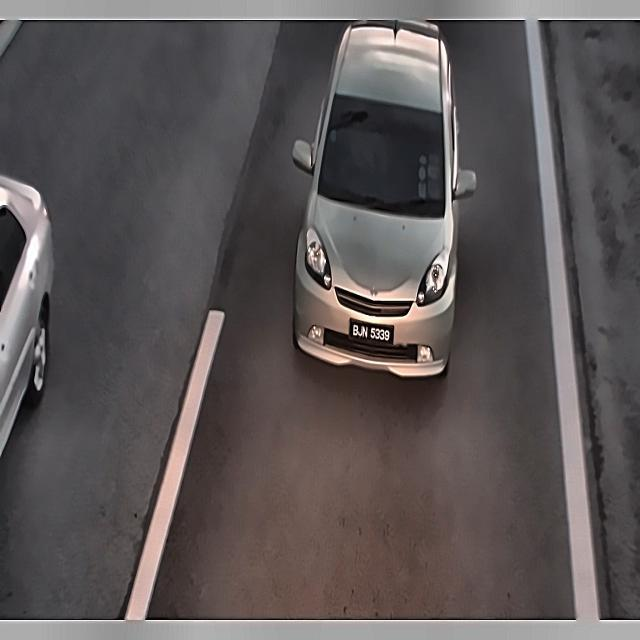car: (344, 318, 399, 347)
